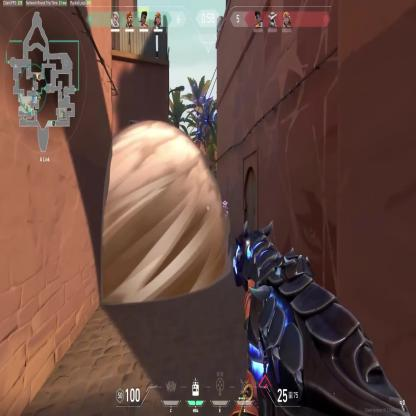enemy: (217, 200, 230, 250)
enemy_head: (222, 200, 227, 210)
